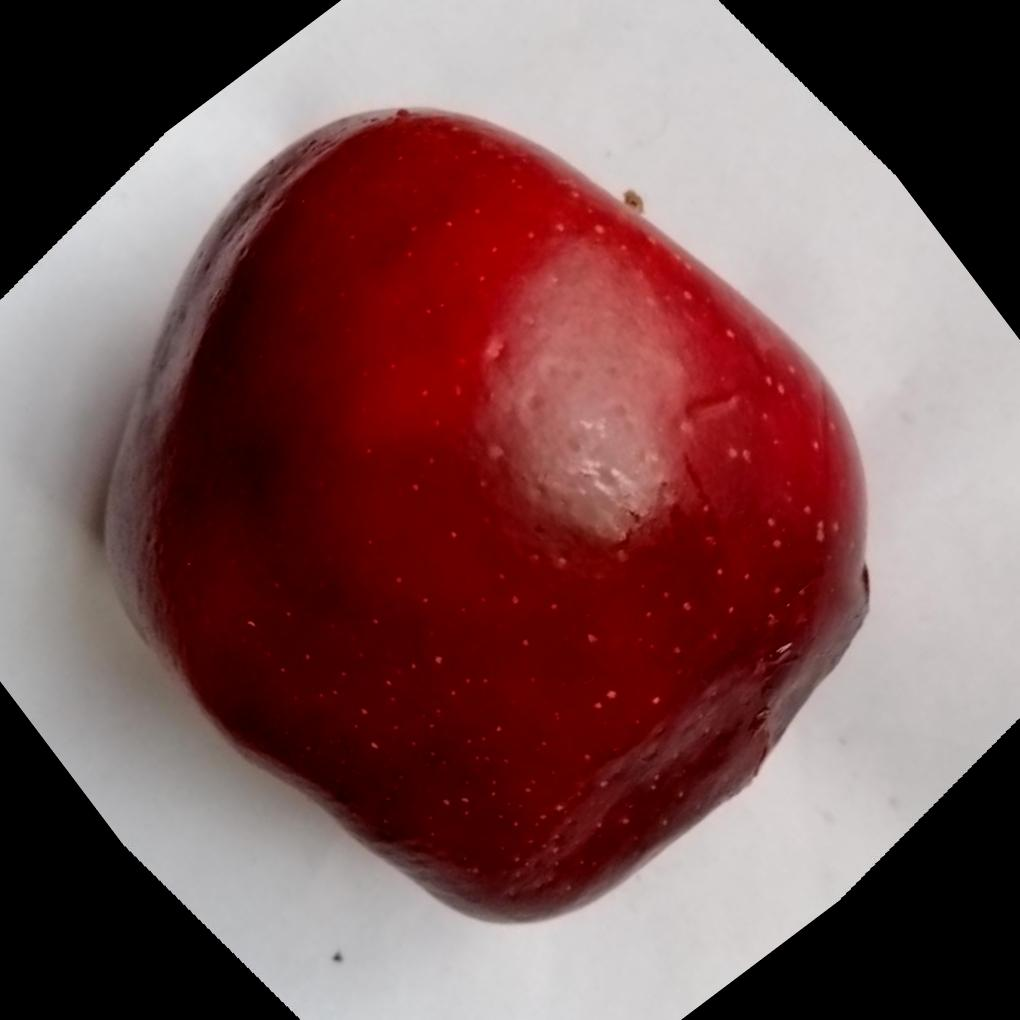FreshOrange: (102, 102, 874, 924)
